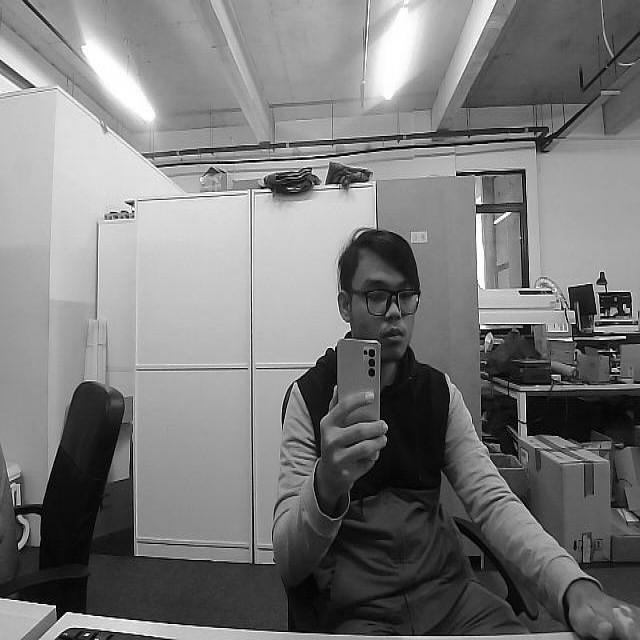phone: (334, 337, 381, 461)
